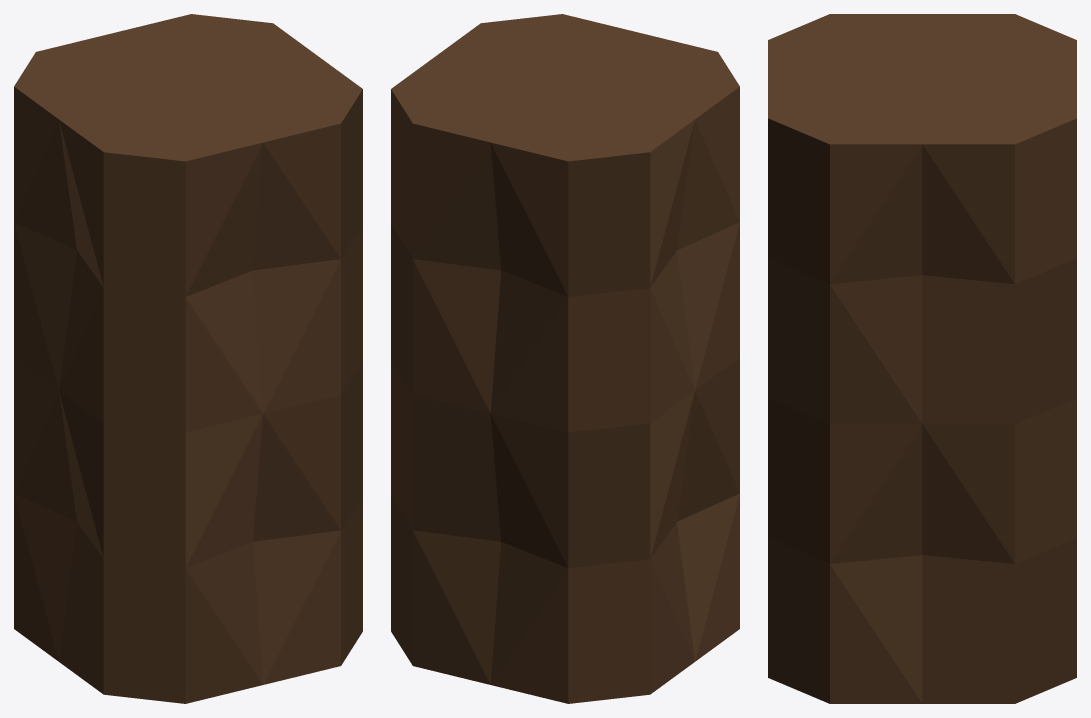
Rendered from Section_1.glb.
3 views of the same model, side by side, from view 1: azimuth 30°, elevation 25°; view 2: azimuth 150°, elevation 25°; view 3: azimuth 270°, elevation 25° (orthographic). The views are drawn at different scales.
Parts seen in each view (by area): view 1: Section; view 2: Section; view 3: Section.
Part boxes in pixels (<box>): Section: <box>14,14,362,703</box>; Section: <box>391,14,739,703</box>; Section: <box>768,14,1076,703</box>.
Size of the model in its own units: 2.6 by 5.2 by 2.6.
